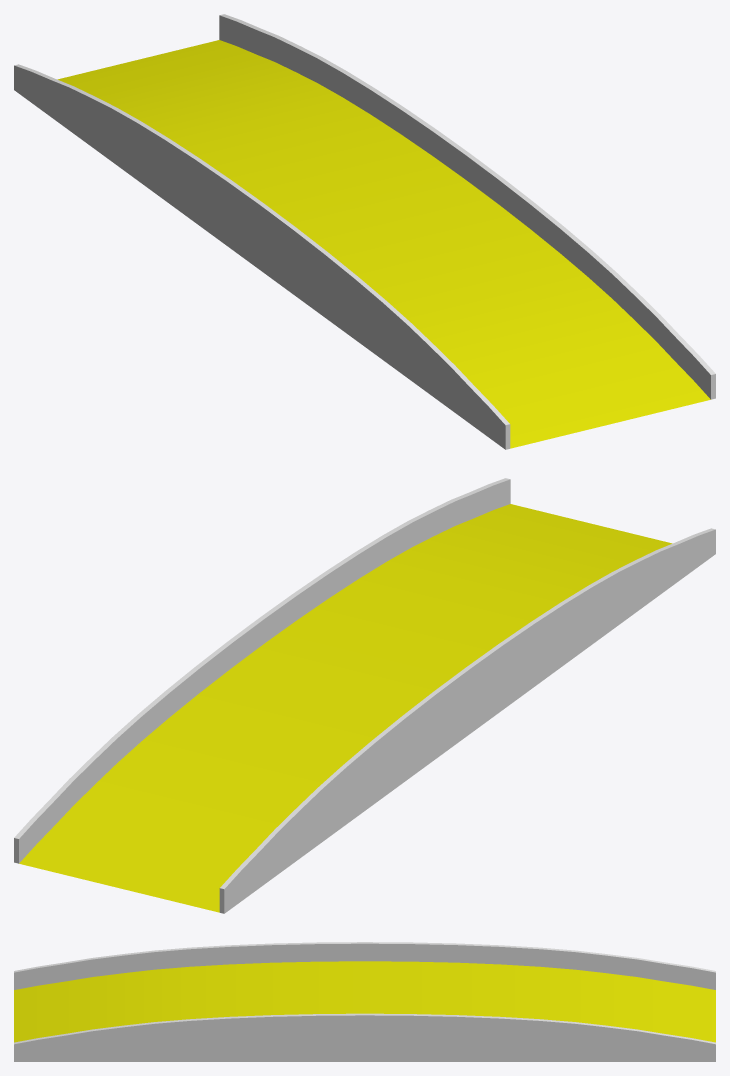
Rendered from Bridge.fbx.
3 views of the same model, one above another, from view 1: azimuth 30°, elevation 25°; view 2: azimuth 150°, elevation 25°; view 3: azimuth 270°, elevation 25° (orthographic). The views are drawn at different scales.
Visible parts, largest first — view 1: Bridge; view 2: Bridge; view 3: Bridge.
Part boxes in pixels (x1,y1,x2,y2): Bridge: (14, 14, 715, 449); Bridge: (14, 478, 715, 913); Bridge: (14, 942, 715, 1061).
Size of the model in its own units: 205 by 60.54 by 829.
